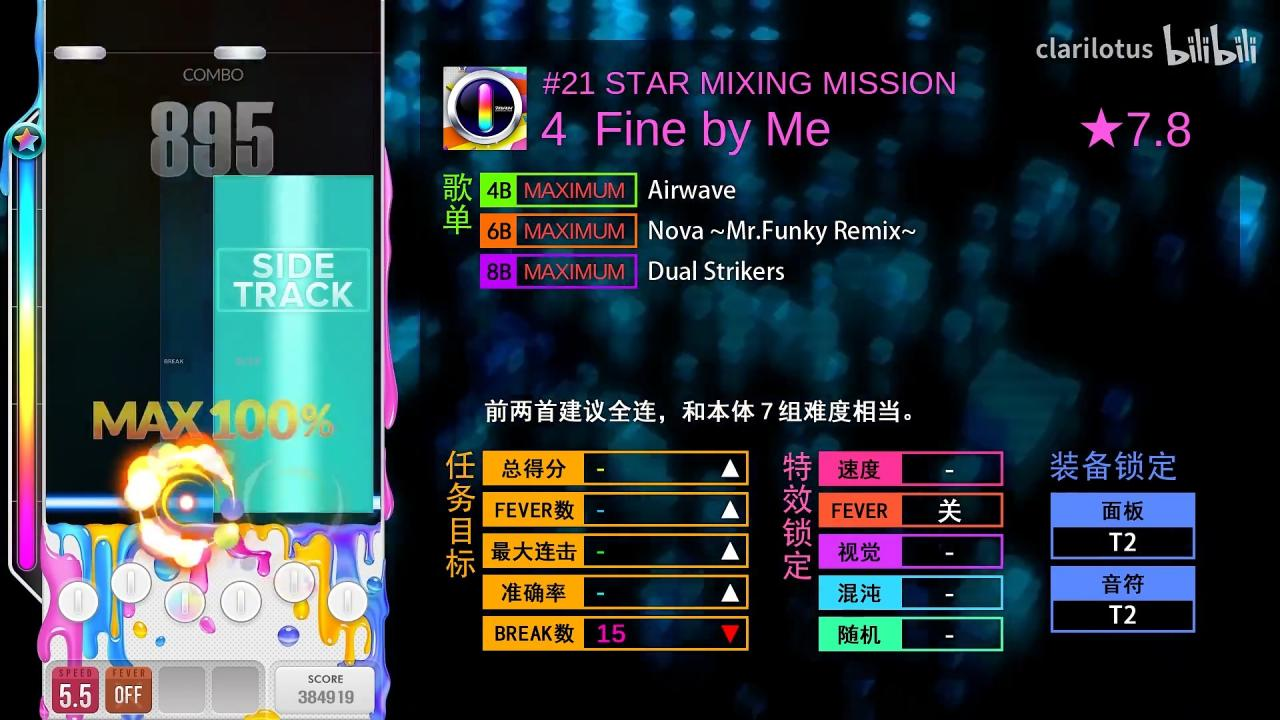note: (213, 46, 266, 60), (54, 46, 106, 60)
side-end: (214, 175, 374, 186)
